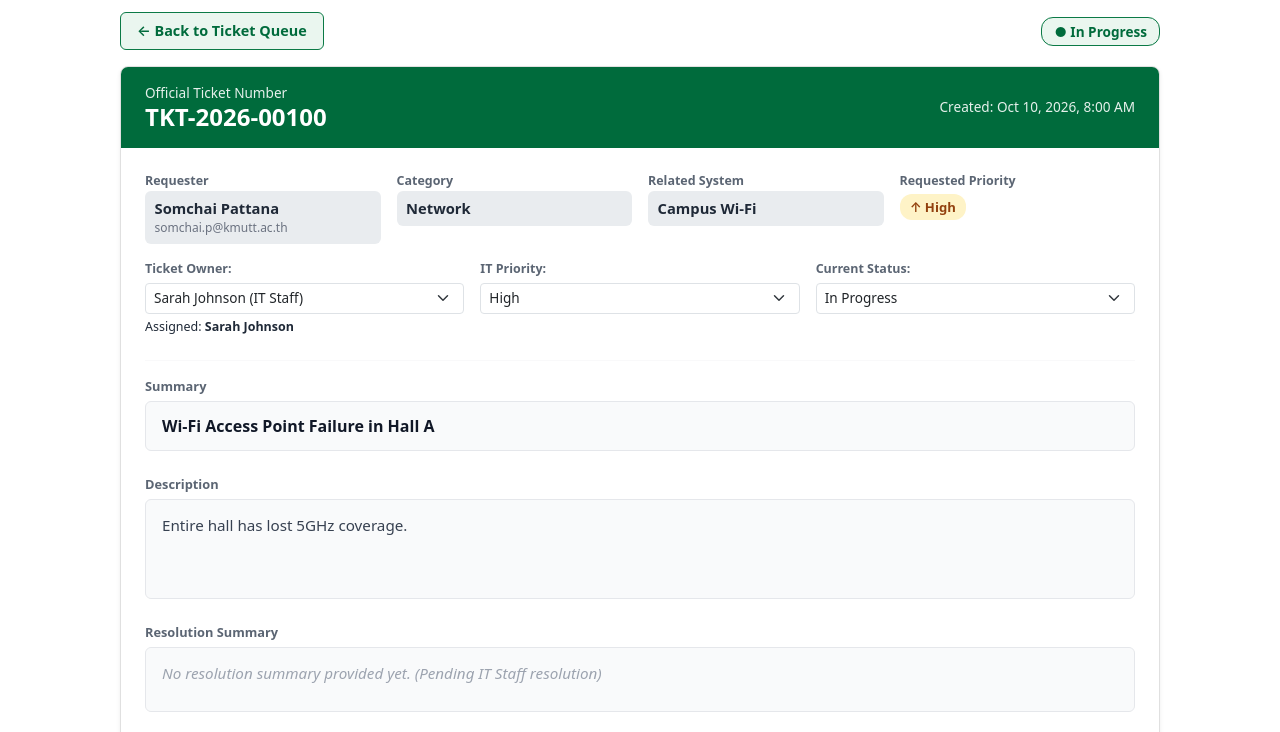
Lab 4 Ticket Workflow & Resolution Gate UI Component Tests (Feature-14) › UI-05: Immediate Status Summary Update without Full Reload › updates status badge and options immediately upon non-Resolved status selection
Select "Waiting for Requester" in the dropdown labelled "Current Status:" at (975, 298), box x1=816 y1=283 x2=1135 y2=314
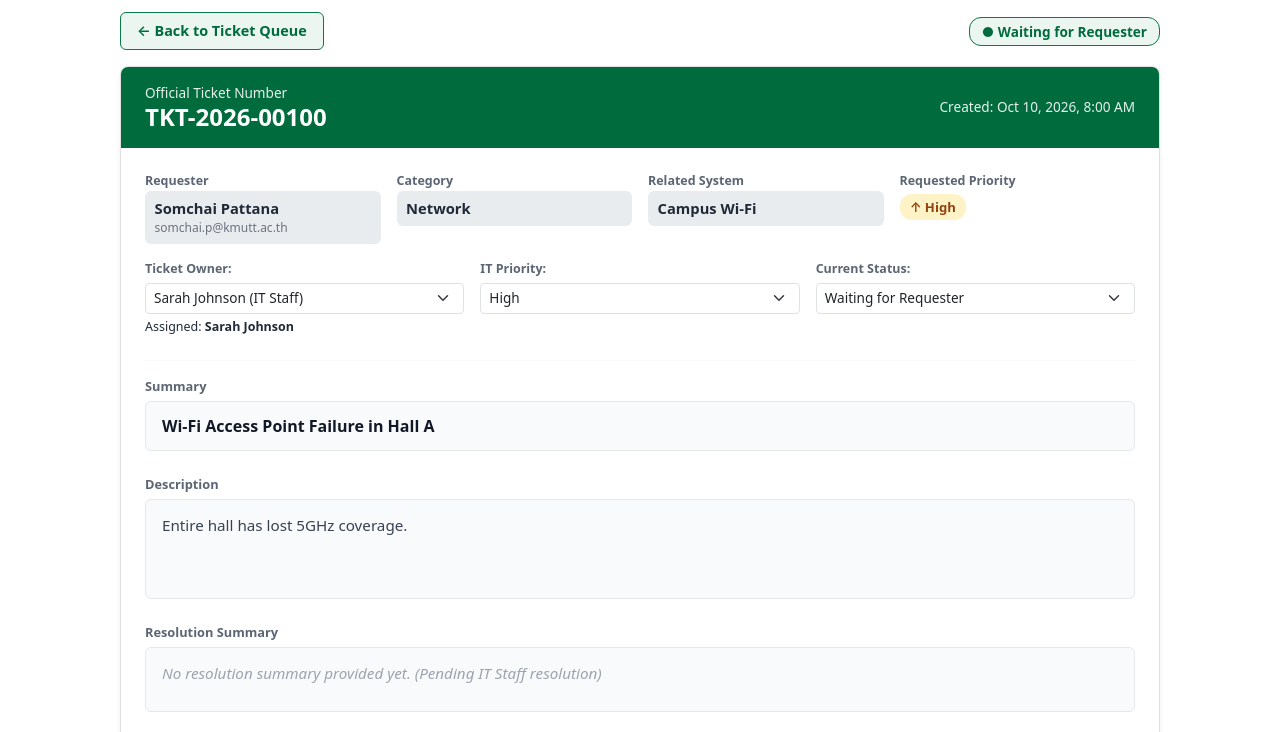
Check: the text "● Waiting for Requester" is shown, box x1=969 y1=17 x2=1160 y2=46
